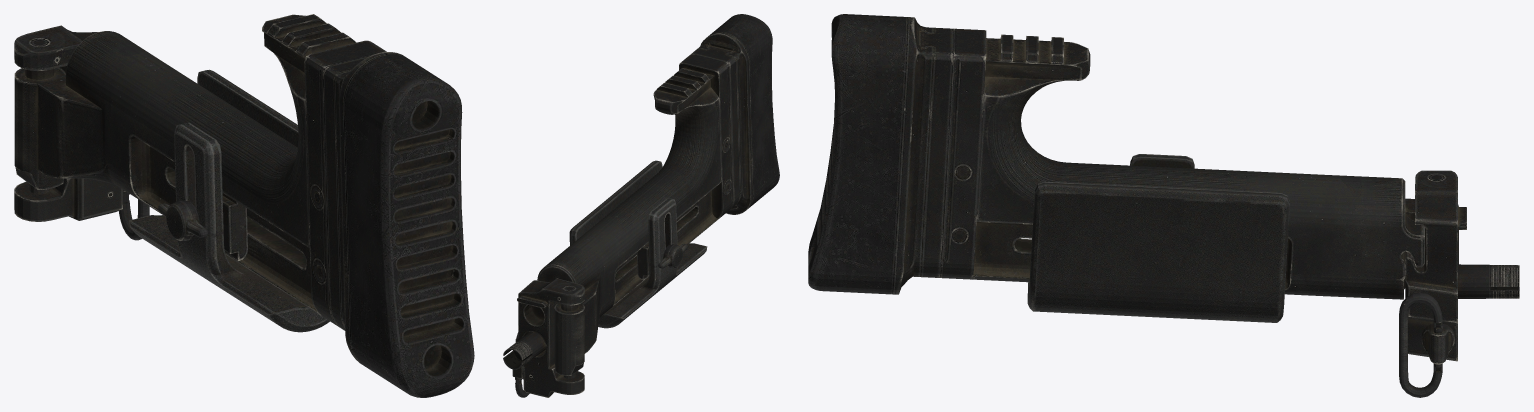
3 views of the same model, side by side, from view 1: azimuth 30°, elevation 25°; view 2: azimuth 150°, elevation 25°; view 3: azimuth 270°, elevation 25° (orthographic). The views are drawn at different scales.
Parts seen in each view (by area): view 1: TW_5b7d63de5acfc400170e2f8d_PZ_Import; view 2: TW_5b7d63de5acfc400170e2f8d_PZ_Import; view 3: TW_5b7d63de5acfc400170e2f8d_PZ_Import.
Part boxes in pixels (x1,y1,x2,y2): TW_5b7d63de5acfc400170e2f8d_PZ_Import: [14, 14, 474, 397]; TW_5b7d63de5acfc400170e2f8d_PZ_Import: [503, 14, 779, 397]; TW_5b7d63de5acfc400170e2f8d_PZ_Import: [808, 14, 1519, 397].
Bounding box in the file's own units: 0.0269 × 0.1612 × 0.09.
Materials: 1 (1 with a texture image).
